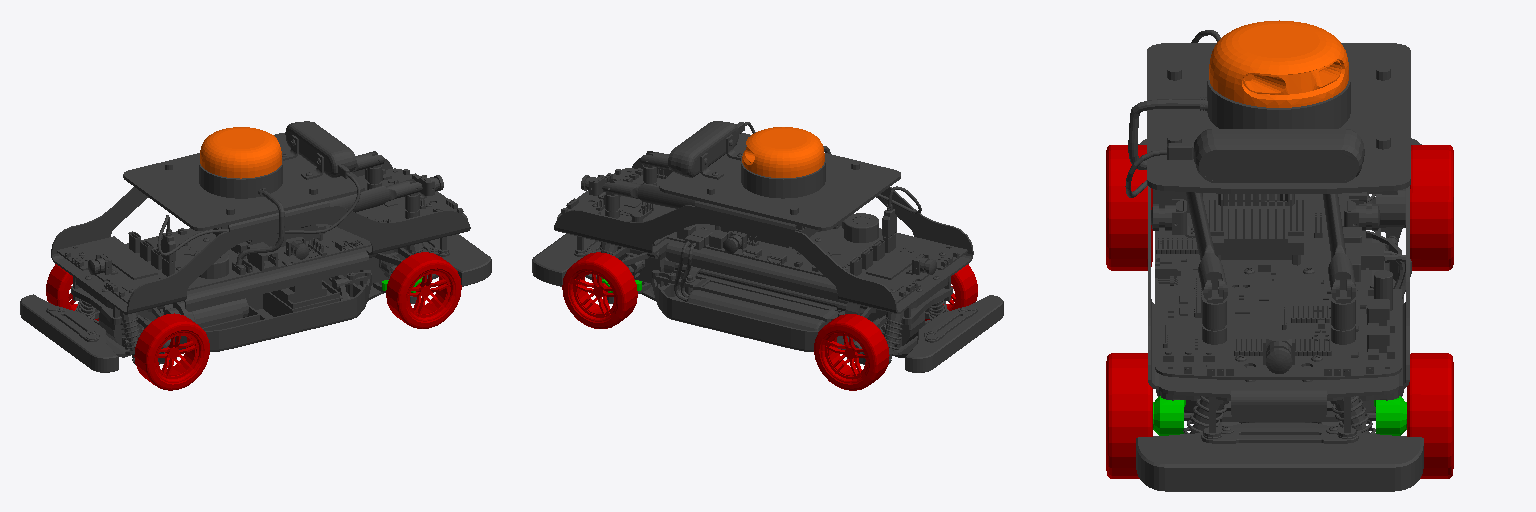
robot.urdf — QCar:
<?xml version="1.0" ?>

<!-- ================================================================================================ -->
<!-- Note: This URDF file and associated content are based on files from the GitHub repository below. -->
<!--       Geometry files were converted as necessary to a format supported by Simscape Multibody.    -->
<!--       Adjustments were made to the URDF file for compatibility with Simscape Multibody.          -->
<!--                                                                                                  -->
<!--  GitHub source: https://github.com/quanser                                                       -->
<!-- ================================================================================================ -->

<robot name="QCar" xmlns:xacro="http://www.ros.org/wiki/xacro">
    <material name="Black">
        <color rgba="0.0 0.0 0.0 1.0"/>
    </material>
    <material name="Blue">
        <color rgba="0.0 0.0 0.8 1.0"/>
    </material>
    <material name="Green">
        <color rgba="0.0 0.8 0.0 1.0"/>
    </material>
    <material name="Grey">
        <color rgba="0.4 0.4 0.4 1.0"/>
    </material>
    <material name="DarkGrey">
        <color rgba="0.3 0.3 0.3 1.0"/>
    </material>
    <material name="Orange">
        <color rgba="1.0 0.423529411765 0.0392156862745 1.0"/>
    </material>
    <material name="Brown">
        <color rgba="0.870588235294 0.811764705882 0.764705882353 1.0"/>
    </material>
    <material name="Red">
        <color rgba="0.8 0.0 0.0 1.0"/>
    </material>
    <material name="White">
        <color rgba="1.0 1.0 1.0 1.0"/>
    </material>

<!--
    ###################################################################################################################
    Not that all mass/inertial values are examples values only. They are not representative of the actual components.
    ###################################################################################################################
-->
<!--
    Uncomment this if you want the robot to be anchored to the world frame/ground plane.
    <link name="world"/>
    <joint name="world_base_joint" type="fixed">
        <origin rpy="0 0 0" xyz="0 0 0"/>
        <parent link="world"/>
        <child link="base"/>
    </joint>
-->
    <link name="base">
        <visual>
            <origin rpy="0 0 0" xyz="0 0 0"/>
            <geometry>
                <mesh filename="QCarBody.stl"/>
            </geometry>
            <material name="DarkGrey"/>
        </visual>
        <collision>
            <origin rpy="0 0 0" xyz="0 0 0"/>
            <geometry>
                <mesh filename="package://qcar/meshes/QCarBody.stl"/>
            </geometry>
        </collision>
        <inertial>
            <origin rpy="0 0 0" xyz="0 0 0"/>
            <mass value="0.1"/>
            <inertia ixx="0.001" ixy="0" ixz="0" iyy="0.001" iyz="0" izz="0.001"/>
        </inertial>
    </link>
    <joint name="body_lidar_joint" type="continuous">
        <parent link="base"/>
        <child link="lidar"/>
        <origin rpy="0 0 0" xyz="-0.01227 -0.00045 0.16152"/>
        <axis xyz="0 0 1"/>
    </joint>
    <link name="lidar">
        <visual>
            <origin rpy="0 0 0" xyz="0 0 0"/>
            <geometry>
                <mesh filename="QCarLidar.stl"/>
            </geometry>
            <material name="Orange"/>
        </visual>
        <collision>
            <origin rpy="0 0 0" xyz="0 0 0"/>
            <geometry>
                <mesh filename="package://qcar/meshes/QCarLidar.stl"/>
            </geometry>
        </collision>
        <inertial>
            <origin rpy="0 0 0" xyz="0 0 0"/>
            <mass value="0.1"/>
            <inertia ixx="0.001" ixy="0" ixz="0" iyy="0.001" iyz="0" izz="0.001"/>
        </inertial>
    </link>
    <joint name="base_hubfl_joint" type="revolute">
        <parent link="base"/>
        <child link="hubfl"/>
        <origin rpy="0 0 0" xyz="0.12960 0.05590 0.03338"/>
        <axis xyz="0 0 1"/>
        <limit lower="-0.5236" upper="0.5236" effort="300" velocity="2"/>
    </joint>
    <link name="hubfl">
        <visual>
            <origin rpy="0 0 0" xyz="0 0 0"/>
            <geometry>
                <mesh filename="QCarSteeringHubL.stl"/>
            </geometry>
            <material name="Green"/>
        </visual>
        <collision>
            <origin rpy="0 0 0" xyz="0 0 0"/>
            <geometry>
                <mesh filename="package://qcar/meshes/QCarSteeringHubL.stl"/>
            </geometry>
        </collision>
        <inertial>
            <origin rpy="0 0 0" xyz="0 0 0"/>
            <mass value="0.1"/>
            <inertia ixx="0.001" ixy="0" ixz="0" iyy="0.001" iyz="0" izz="0.001"/>
        </inertial>
    </link>
    <joint name="base_hubfr_joint" type="revolute">
        <parent link="base"/>
        <child link="hubfr"/>
        <origin rpy="0 0 0" xyz="0.12960 -0.05590 0.03338"/>
        <axis xyz="0 0 1"/>
        <limit lower="-0.5236" upper="0.5236" effort="300" velocity="2"/>
    </joint>
    <link name="hubfr">
        <visual>
            <origin rpy="0 0 0" xyz="0 0 0"/>
            <geometry>
                <mesh filename="QCarSteeringHubR.stl"/>
            </geometry>
            <material name="Green"/>
        </visual>
        <collision>
            <origin rpy="0 0 0" xyz="0 0 0"/>
            <geometry>
                <mesh filename="package://qcar/meshes/QCarSteeringHubR.stl"/>
            </geometry>
        </collision>
        <inertial>
            <origin rpy="0 0 0" xyz="0 0 0"/>
            <mass value="0.1"/>
            <inertia ixx="0.001" ixy="0" ixz="0" iyy="0.001" iyz="0" izz="0.001"/>
        </inertial>
    </link>
    <joint name="hubfl_wheelfl_joint" type="continuous">
        <parent link="hubfl"/>
        <child link="wheelfl"/>
        <origin rpy="0 0 3.14" xyz="0 0 0"/>
        <axis xyz="0 1 0"/>
    </joint>
    <link name="wheelfl">
        <visual>
            <origin rpy="0 0 0" xyz="0 0 0"/>
            <geometry>
                <mesh filename="QCarWheel.stl"/>
            </geometry>
            <material name="Red"/>
        </visual>
        <collision>
            <origin rpy="0 0 0" xyz="0 0 0"/>
            <geometry>
                <mesh filename="package://qcar/meshes/QCarWheel.stl"/>
            </geometry>
        </collision>
        <inertial>
            <origin rpy="0 0 0" xyz="0 0 0"/>
            <mass value="0.1"/>
            <inertia ixx="0.001" ixy="0" ixz="0" iyy="0.001" iyz="0" izz="0.001"/>
        </inertial>
    </link>
    <joint name="hubfr_wheelfr_joint" type="continuous">
        <parent link="hubfr"/>
        <child link="wheelfr"/>
        <origin rpy="0 0 0" xyz="0 0 0"/>
        <axis xyz="0 1 0"/>
    </joint>
    <link name="wheelfr">
        <visual>
            <origin rpy="0 0 0" xyz="0 0 0"/>
            <geometry>
                <mesh filename="QCarWheel.stl"/>
            </geometry>
            <material name="Red"/>
        </visual>
        <collision>
            <origin rpy="0 0 0" xyz="0 0 0"/>
            <geometry>
                <mesh filename="package://qcar/meshes/QCarWheel.stl"/>
            </geometry>
        </collision>
        <inertial>
            <origin rpy="0 0 0" xyz="0 0 0"/>
            <mass value="0.1"/>
            <inertia ixx="0.001" ixy="0" ixz="0" iyy="0.001" iyz="0" izz="0.001"/>
        </inertial>
    </link>

    <joint name="base_wheelrl_joint" type="continuous">
        <parent link="base"/>
        <child link="wheelrl"/>
        <origin rpy="0 0 3.14" xyz="-0.12765 0.05610 0.03338"/>
        <axis xyz="0 1 0"/>
    </joint>
    <link name="wheelrl">
        <visual>
            <origin rpy="0 0 0" xyz="0 0 0"/>
            <geometry>
                <mesh filename="QCarWheel.stl"/>
            </geometry>
            <material name="Red"/>
        </visual>
        <collision>
            <origin rpy="0 0 0" xyz="0 0 0"/>
            <geometry>
                <mesh filename="package://qcar/meshes/QCarWheel.stl"/>
            </geometry>
        </collision>
        <inertial>
            <origin rpy="0 0 0" xyz="0 0 0"/>
            <mass value="0.1"/>
            <inertia ixx="0.001" ixy="0" ixz="0" iyy="0.001" iyz="0" izz="0.001"/>
        </inertial>
    </link>

    <joint name="base_wheelrr_joint" type="continuous">
        <parent link="base"/>
        <child link="wheelrr"/>
        <origin rpy="0 0 0" xyz="-0.12765 -0.05610 0.03338"/>
        <axis xyz="0 1 0"/>
    </joint>
    <link name="wheelrr">
        <visual>
            <origin rpy="0 0 0" xyz="0 0 0"/>    
            <geometry>
                <mesh filename="QCarWheel.stl"/>
            </geometry>
            <material name="Red"/>
        </visual>
        <collision>
            <origin rpy="0 0 0" xyz="0 0 0"/>
            <geometry>
                <mesh filename="package://qcar/meshes/QCarWheel.stl"/>
            </geometry>
        </collision>
        <inertial>
            <origin rpy="0 0 0" xyz="0 0 0"/>
            <mass value="0.1"/>
            <inertia ixx="0.001" ixy="0" ixz="0" iyy="0.001" iyz="0" izz="0.001"/>
        </inertial>
    </link>
    
<!--
    <gazebo>
        <plugin filename="libgazebo_ros_control.so" name="gazebo_ros_control">
            <robotNamespace>/QCar</robotNamespace>
        </plugin>
    </gazebo>
-->

    <gazebo reference="base">
        <material>Gazebo/DarkGrey</material>
    </gazebo>
    <gazebo reference="lidar">
        <material>Gazebo/Grey</material>
    </gazebo>
    <gazebo reference="hubfl">
        <material>Gazebo/Grey</material>
    </gazebo>
    <gazebo reference="hubfr">
        <material>Gazebo/Grey</material>
    </gazebo>
    <gazebo reference="wheelfl">
        <material>Gazebo/Black</material>
    </gazebo>
    <gazebo reference="wheelfr">
        <material>Gazebo/Black</material>
    </gazebo>
    <gazebo reference="wheelrl">
        <material>Gazebo/Black</material>
    </gazebo>
    <gazebo reference="wheelrr">
        <material>Gazebo/Black</material>
    </gazebo>

    <transmission name="body_lidar_tran">
        <type>>transmission_interface/SimpleTransmission</type>
        <joint name="body_lidar_joint">
            <hardwareInterface>hardware_interface/EffortJointInterface</hardwareInterface>
        </joint>
        <actuator name="body_lidar_motor">
            <mechanicalReduction>1</mechanicalReduction>
        </actuator>
    </transmission>

    <transmission name="base_hubfl_tran">
        <type>>transmission_interface/SimpleTransmission</type>
        <joint name="base_hubfl_joint">
            <hardwareInterface>hardware_interface/EffortJointInterface</hardwareInterface>
        </joint>
        <actuator name="base_hubfl_motor">
            <mechanicalReduction>1</mechanicalReduction>
        </actuator>
    </transmission>
    <transmission name="base_hubfr_tran">
        <type>>transmission_interface/SimpleTransmission</type>
        <joint name="base_hubfr_joint">
            <hardwareInterface>hardware_interface/EffortJointInterface</hardwareInterface>
        </joint>
        <actuator name="base_hubfr_motor">
            <mechanicalReduction>1</mechanicalReduction>
        </actuator>
    </transmission>

    <transmission name="hubfl_wheelfl_tran">
        <type>>transmission_interface/SimpleTransmission</type>
        <joint name="hubfl_wheelfl_joint">
            <hardwareInterface>hardware_interface/EffortJointInterface</hardwareInterface>
        </joint>
        <actuator name="hubfl_wheelfl_motor">
            <mechanicalReduction>1</mechanicalReduction>
        </actuator>
    </transmission>
    <transmission name="hubfr_wheelfr_tran">
        <type>>transmission_interface/SimpleTransmission</type>
        <joint name="hubfr_wheelfr_joint">
            <hardwareInterface>hardware_interface/EffortJointInterface</hardwareInterface>
        </joint>
        <actuator name="hubfr_wheelfr_motor">
            <mechanicalReduction>1</mechanicalReduction>
        </actuator>
    </transmission>

    <transmission name="base_wheelrl_tran">
        <type>>transmission_interface/SimpleTransmission</type>
        <joint name="base_wheelrl_joint">
            <hardwareInterface>hardware_interface/EffortJointInterface</hardwareInterface>
        </joint>
        <actuator name="base_wheelrl_motor">
            <mechanicalReduction>1</mechanicalReduction>
        </actuator>
    </transmission>
    <transmission name="base_wheelrr_tran">
        <type>>transmission_interface/SimpleTransmission</type>
        <joint name="base_wheelrr_joint">
            <hardwareInterface>hardware_interface/EffortJointInterface</hardwareInterface>
        </joint>
        <actuator name="base_wheelrr_motor">
            <mechanicalReduction>1</mechanicalReduction>
        </actuator>
    </transmission>
</robot>

--- Render facts (derived) ---
3 views of the same robot in one strip: view 1: azimuth 30°, elevation 25°; view 2: azimuth 150°, elevation 25°; view 3: azimuth 270°, elevation 25° (orthographic).
Robot: QCar — 8 links, 7 joints (2 revolute, 5 continuous); root link base; default pose: all joints at 0.
Visible links, largest first — view 1: base, wheelfr, wheelrr, lidar, wheelrl; view 2: base, wheelfl, wheelrl, lidar, wheelrr; view 3: base, lidar, wheelrl, wheelfl, wheelfr, wheelrr, hubfl, hubfr.
Boxes of the visible links, left/top/right/bottom form: base: left=20, top=121, right=491, bottom=372; wheelfr: left=386, top=252, right=461, bottom=328; wheelrr: left=134, top=313, right=209, bottom=390; lidar: left=200, top=127, right=281, bottom=178; wheelrl: left=46, top=264, right=98, bottom=320; base: left=532, top=121, right=1003, bottom=372; wheelfl: left=562, top=252, right=637, bottom=328; wheelrl: left=814, top=314, right=889, bottom=390; lidar: left=742, top=127, right=824, bottom=177; wheelrr: left=925, top=264, right=977, bottom=320; base: left=1125, top=30, right=1423, bottom=491; lidar: left=1209, top=20, right=1348, bottom=107; wheelrl: left=1410, top=145, right=1453, bottom=270; wheelfl: left=1407, top=353, right=1453, bottom=478; wheelfr: left=1106, top=353, right=1152, bottom=478; wheelrr: left=1106, top=145, right=1152, bottom=270; hubfl: left=1374, top=396, right=1406, bottom=435; hubfr: left=1153, top=396, right=1185, bottom=435.
Bounding box of the posed robot: 0.4087 × 0.1818 × 0.1827 m (x, y, z).
8 mesh visuals loaded from 5 distinct referenced files (5 binary STL).
